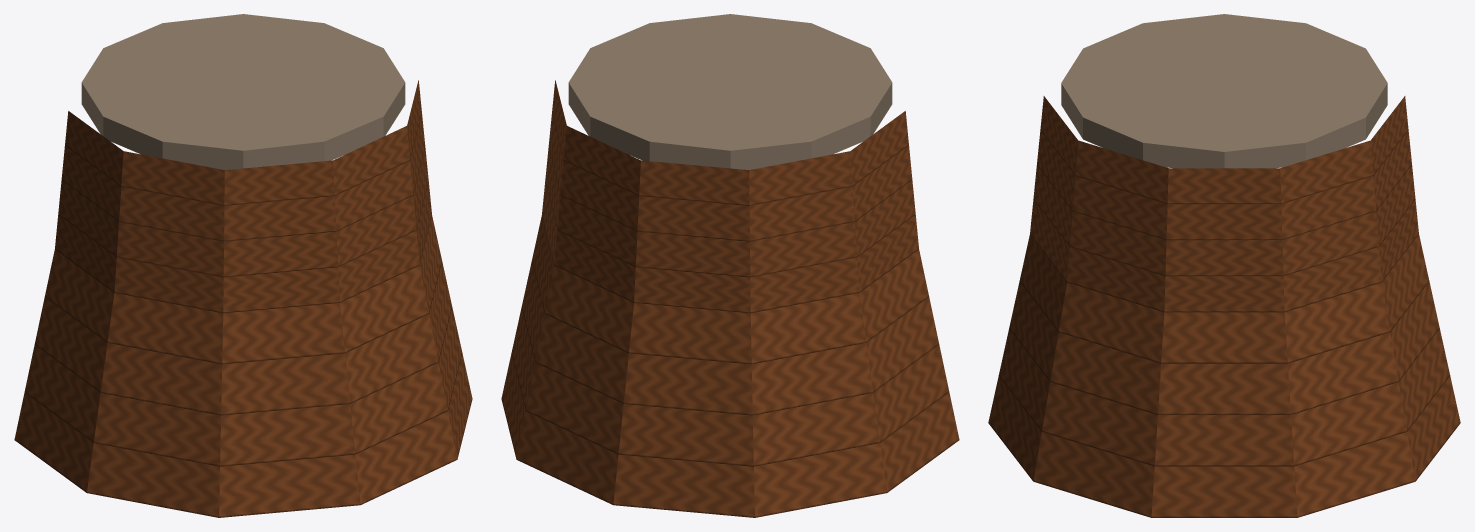
Rendered from stump_pine.glb.
3 views of the same model, side by side, from view 1: azimuth 30°, elevation 25°; view 2: azimuth 150°, elevation 25°; view 3: azimuth 270°, elevation 25° (orthographic).
Visible parts, largest first — view 1: stump-pine; view 2: stump-pine; view 3: stump-pine.
Boxes of the visible parts, <box> form: stump-pine: <box>14,14,472,517</box>; stump-pine: <box>501,14,959,517</box>; stump-pine: <box>988,14,1460,517</box>.
Size of the model in its own units: 0.6467 by 0.54 by 0.68.
Materials: 2 (1 with a texture image).
